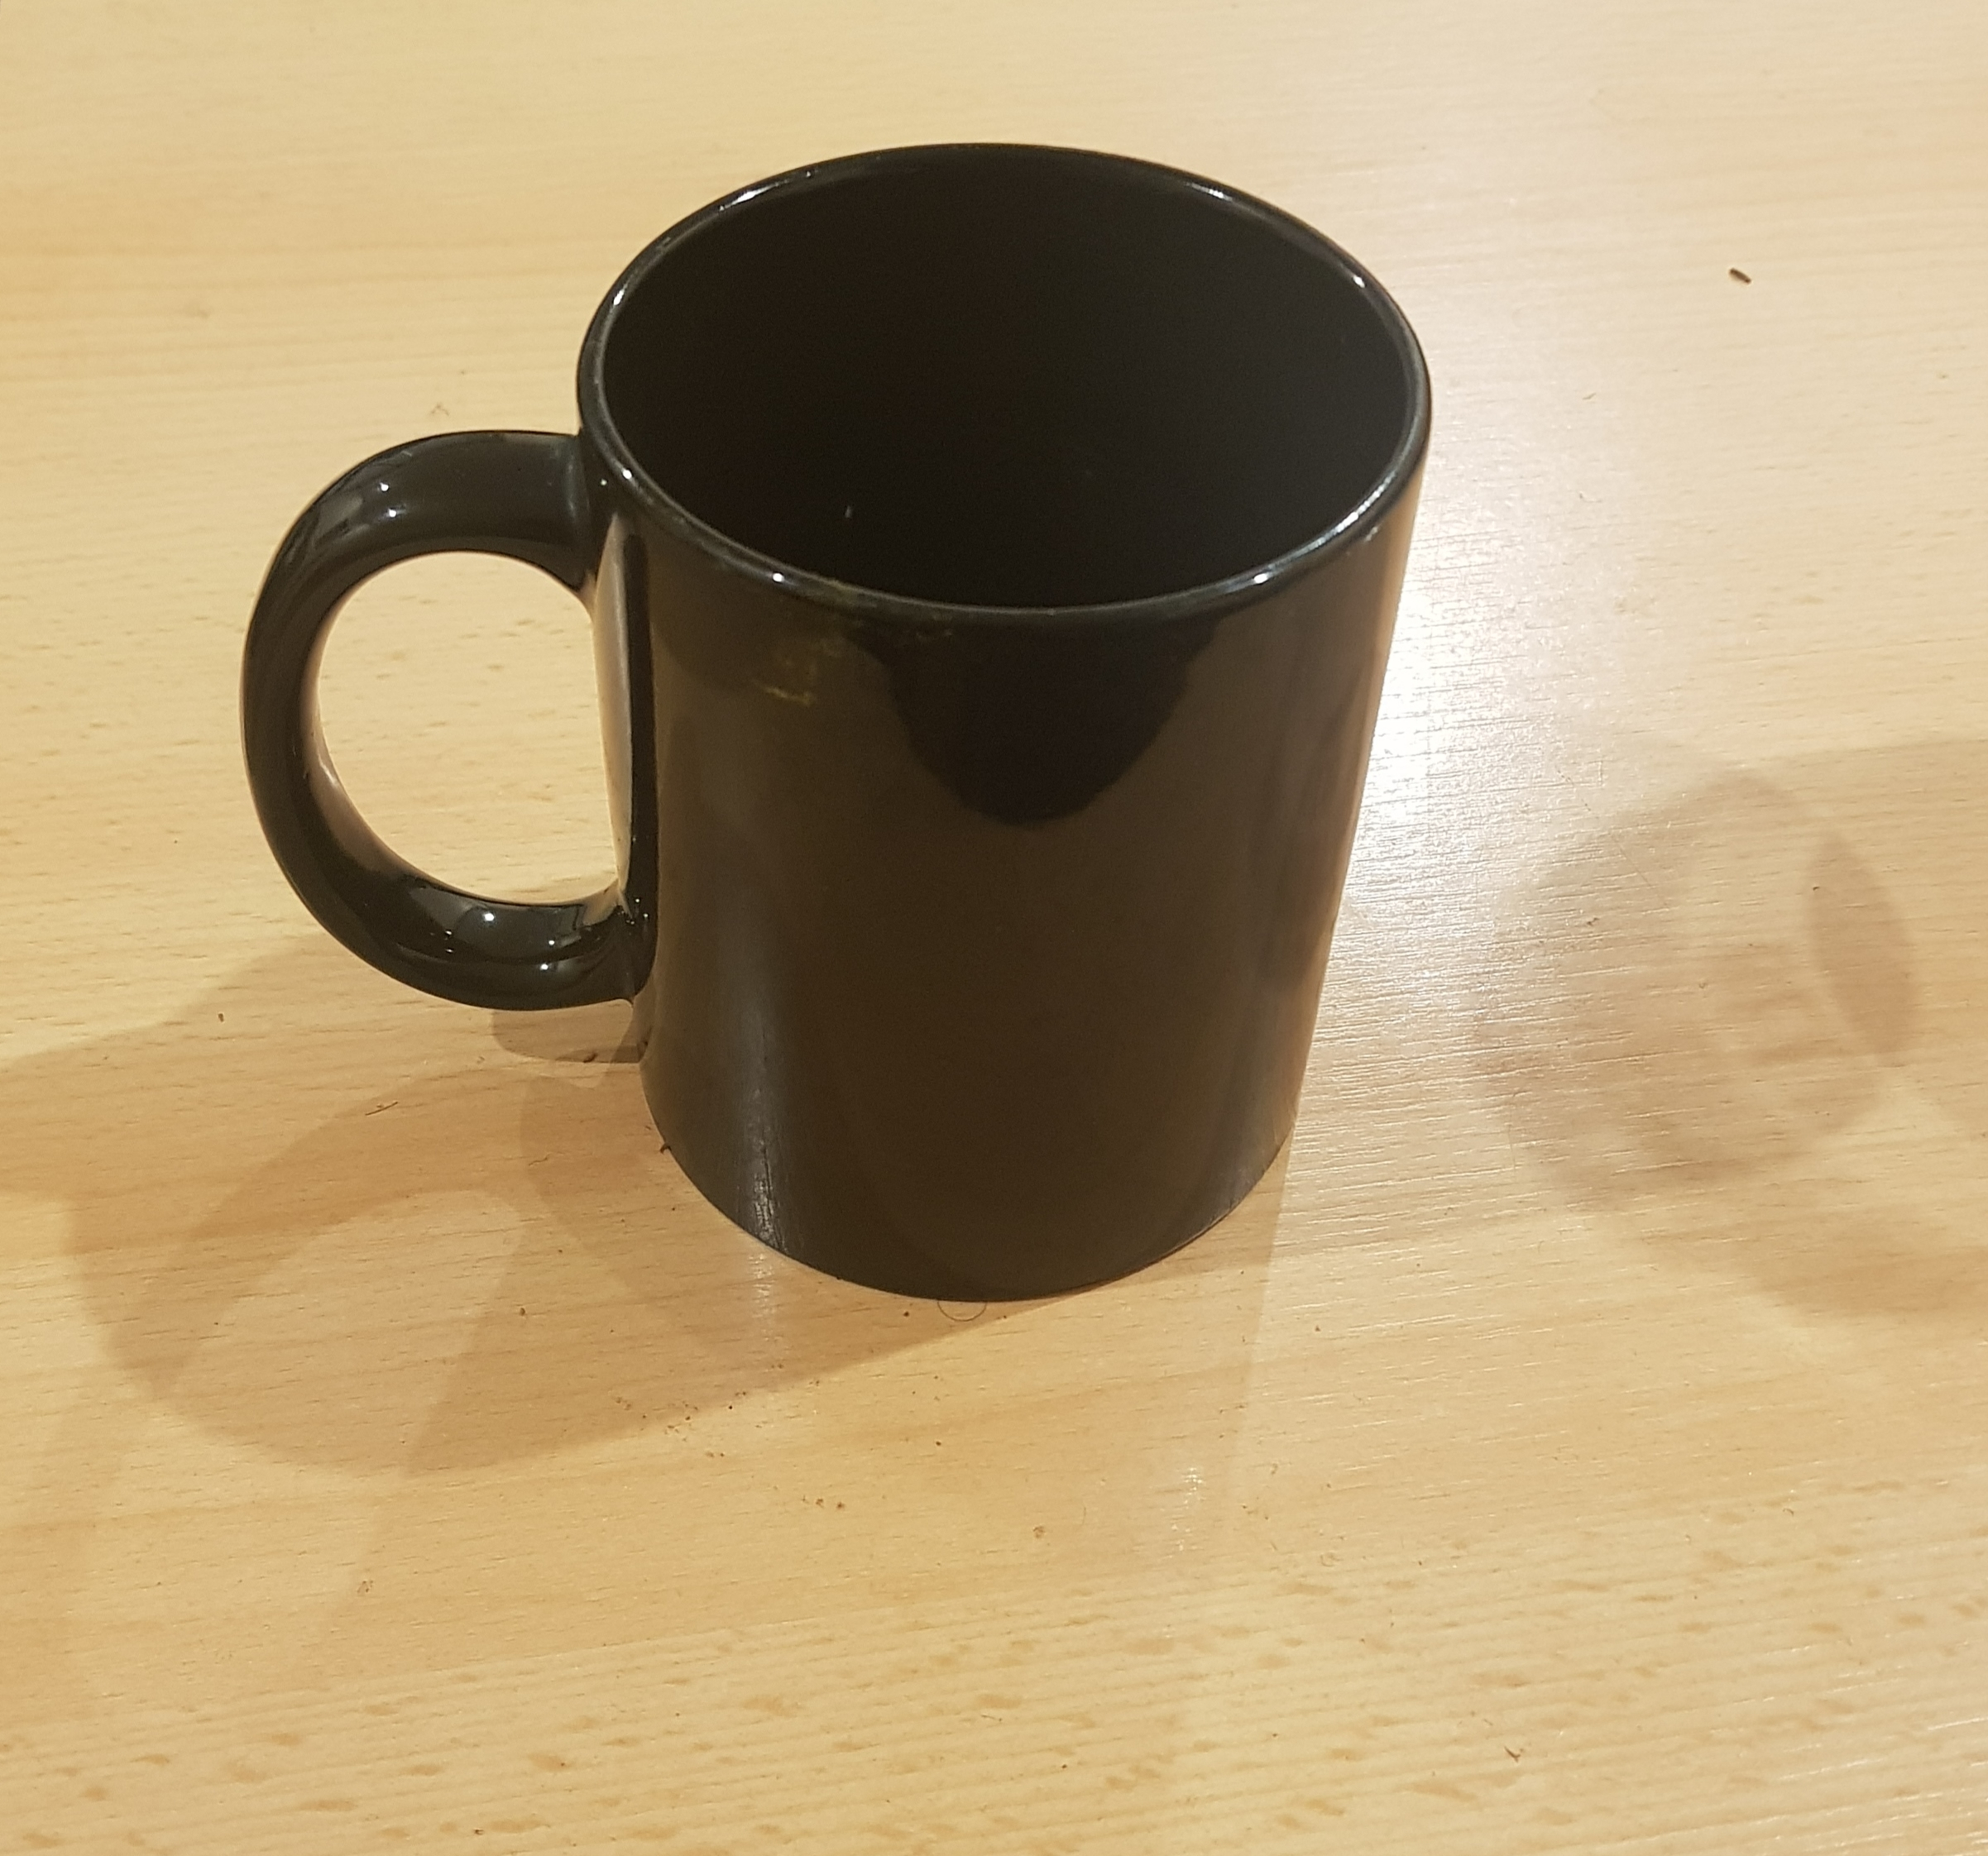Black: (237, 133, 1450, 1307)
